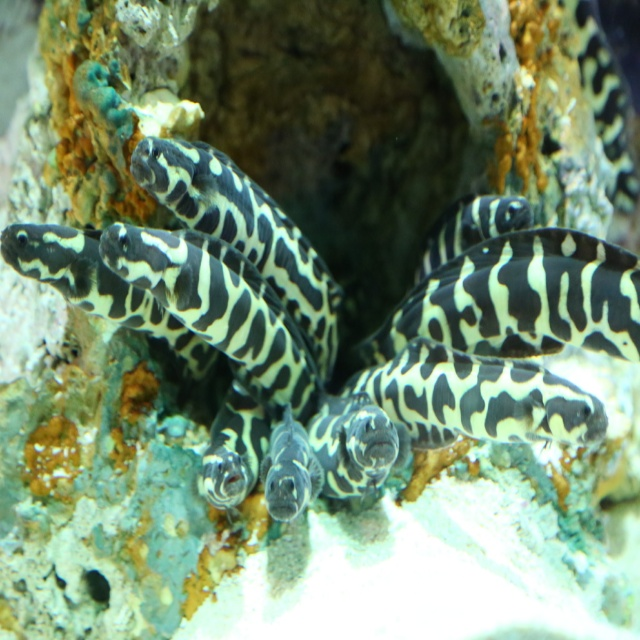Fish: (0, 136, 640, 523)
